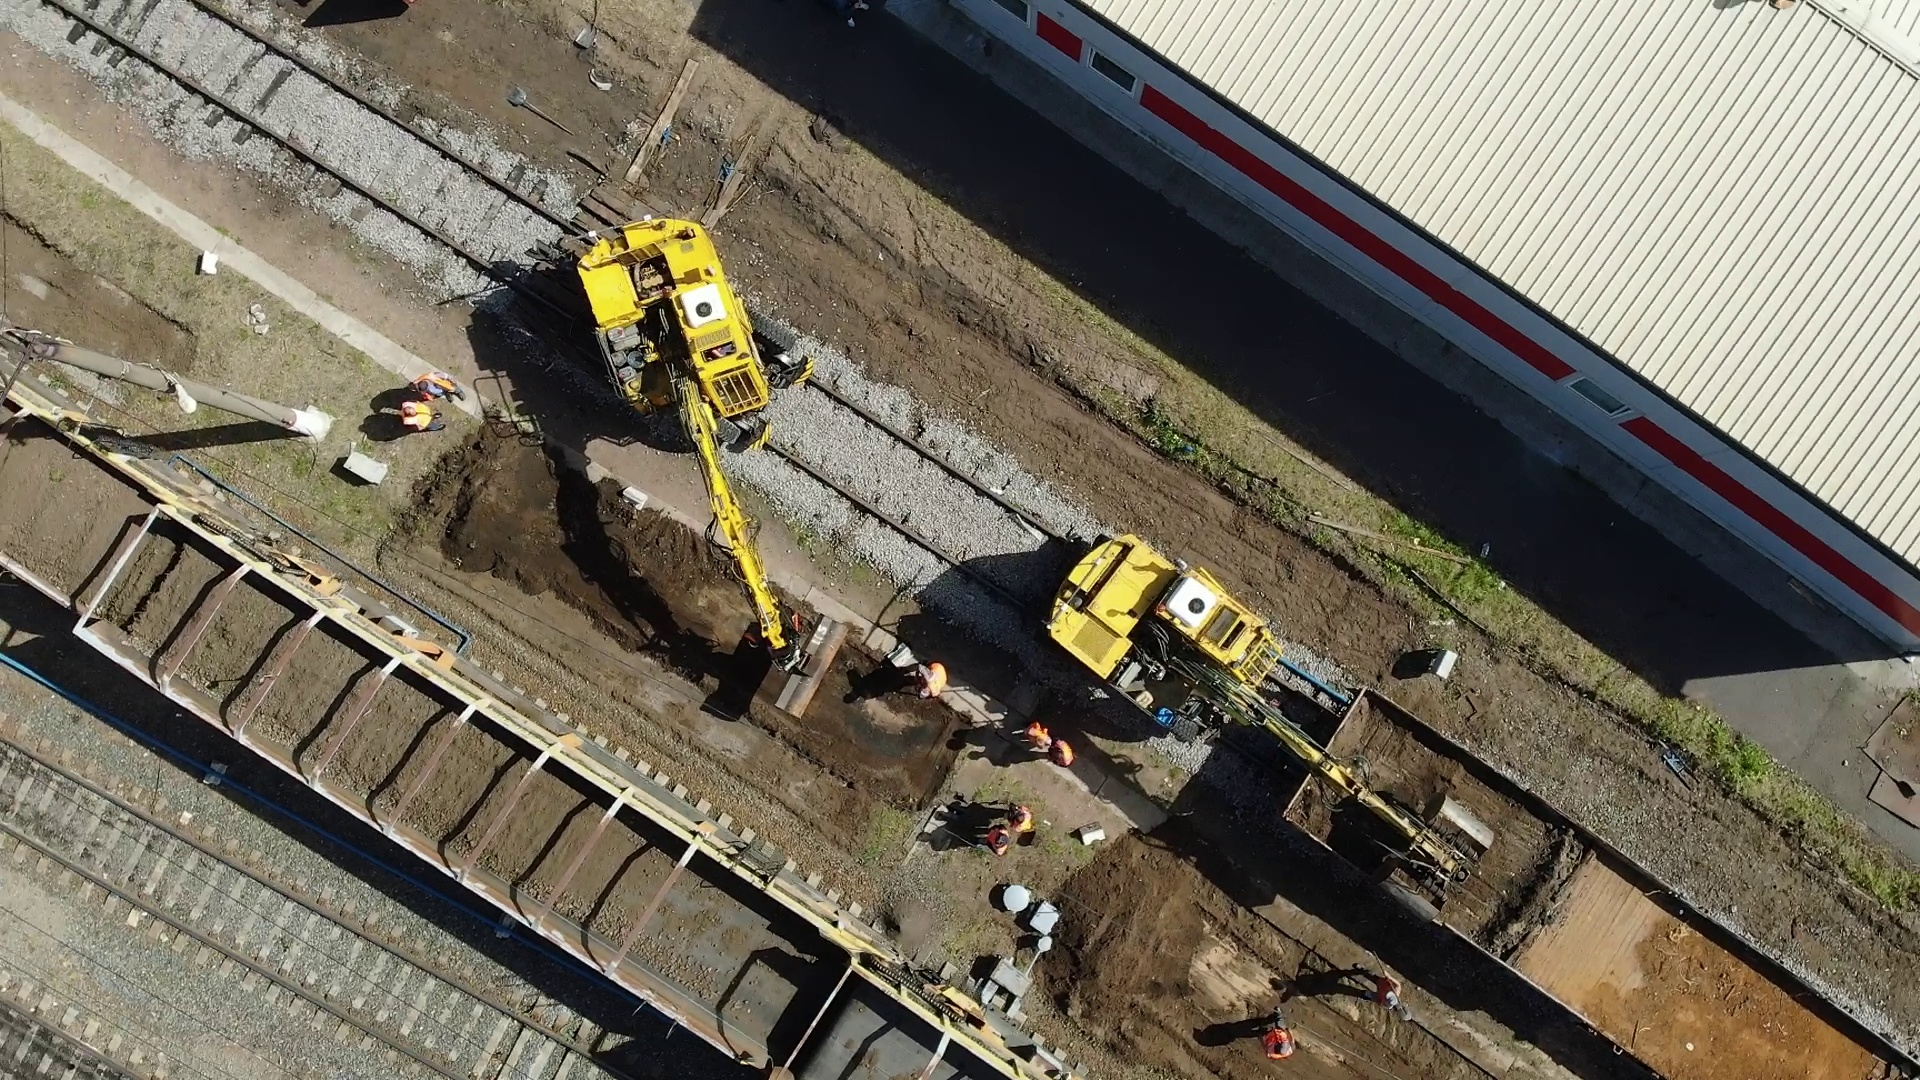kjtv: (1049, 528, 1360, 793), (573, 233, 782, 530)
